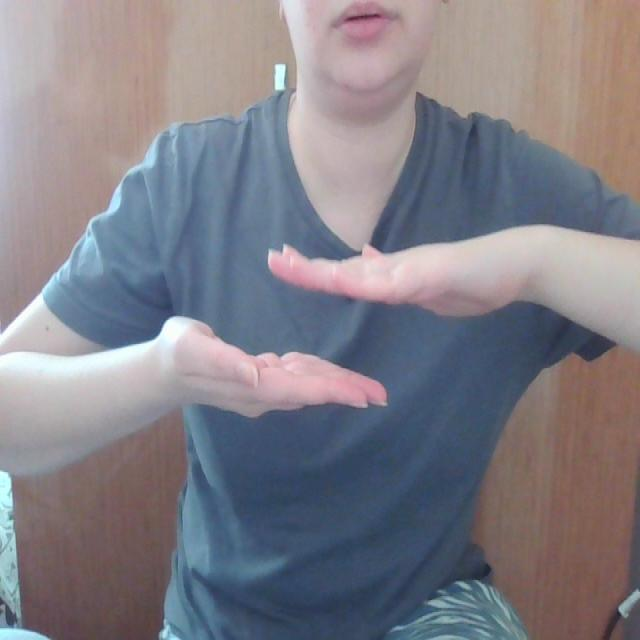Arkadas: (0, 219, 640, 420)
